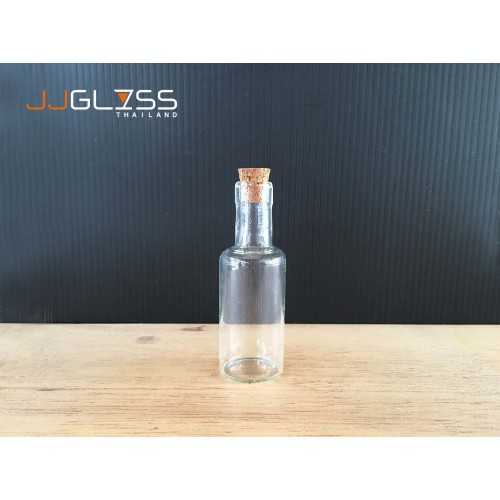glass_bottle: (215, 162, 290, 387)
